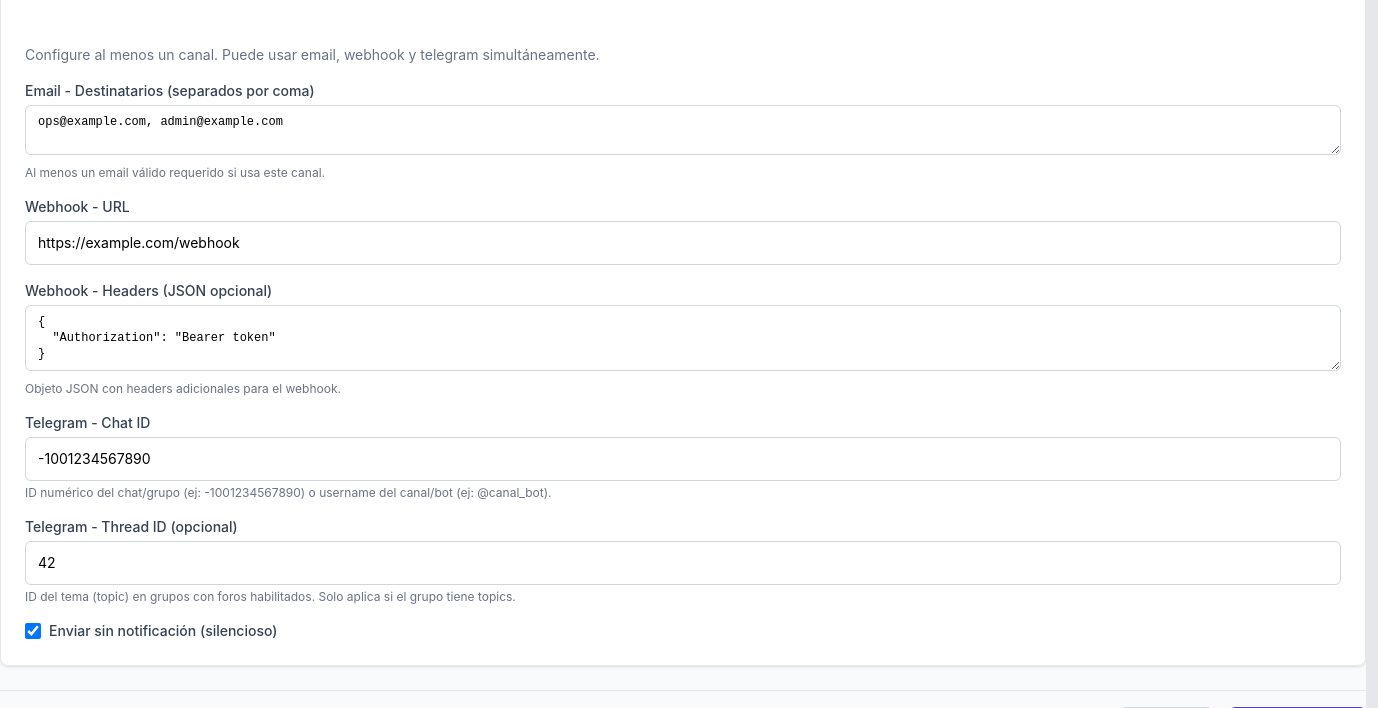
it: EditRuleForm › validates telegram thread_id as positive integer
(page scrolled)
Type "0" into the number field labelled "Telegram - Thread ID (opcional)".
click(683, 563); type("0")  # box x1=25 y1=541 x2=1341 y2=585
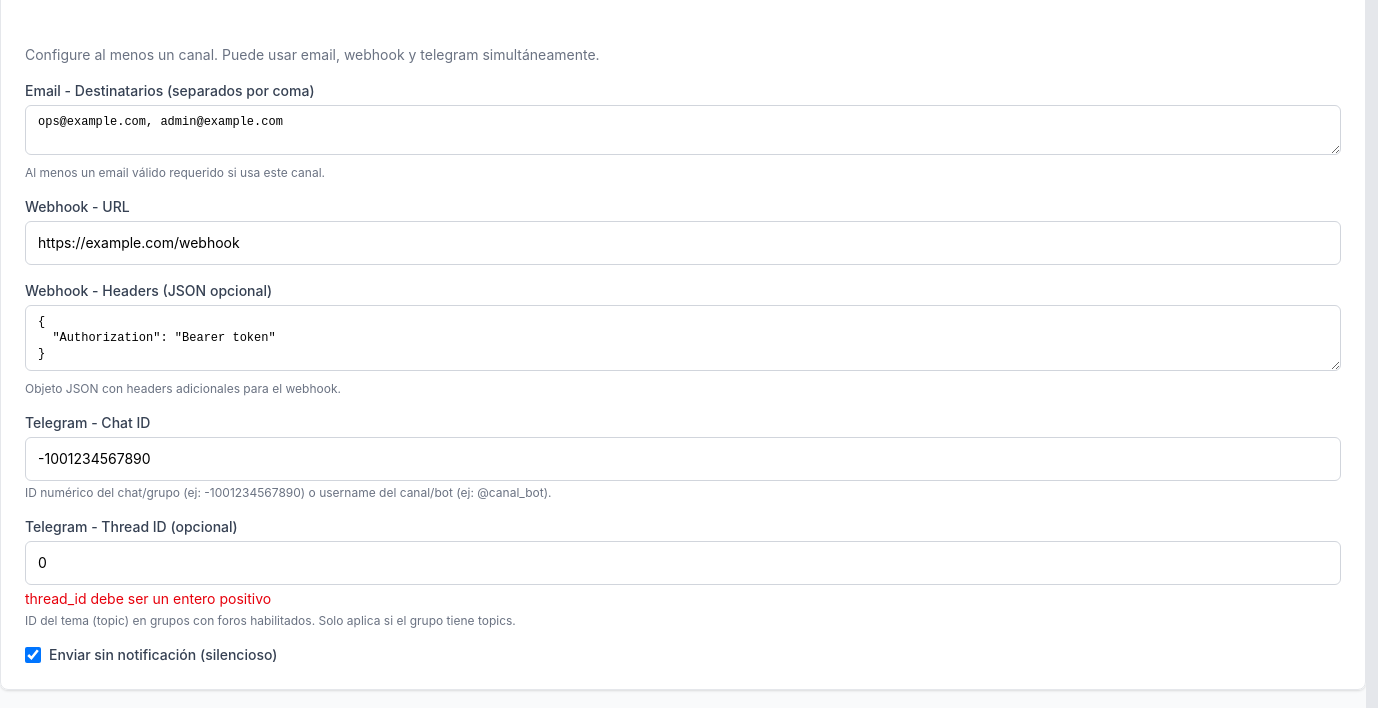
Result: the text "thread_id debe ser un entero positivo" is shown at x1=25 y1=590 x2=271 y2=607
